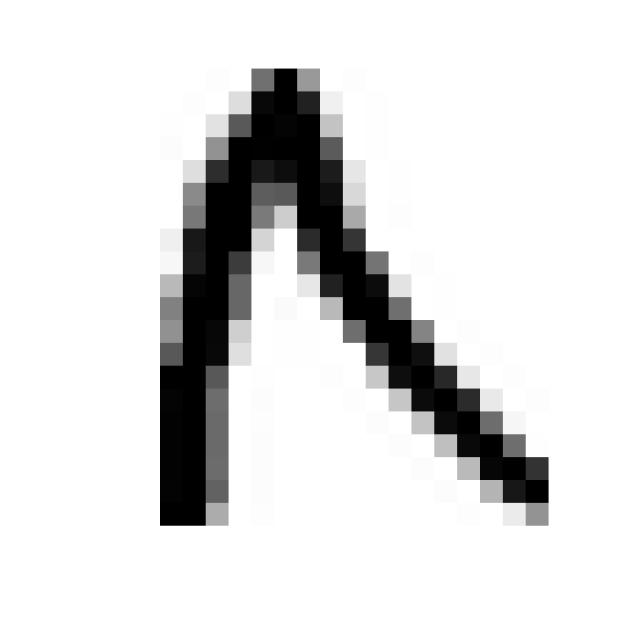8 -eight-: (128, 48, 563, 555)
